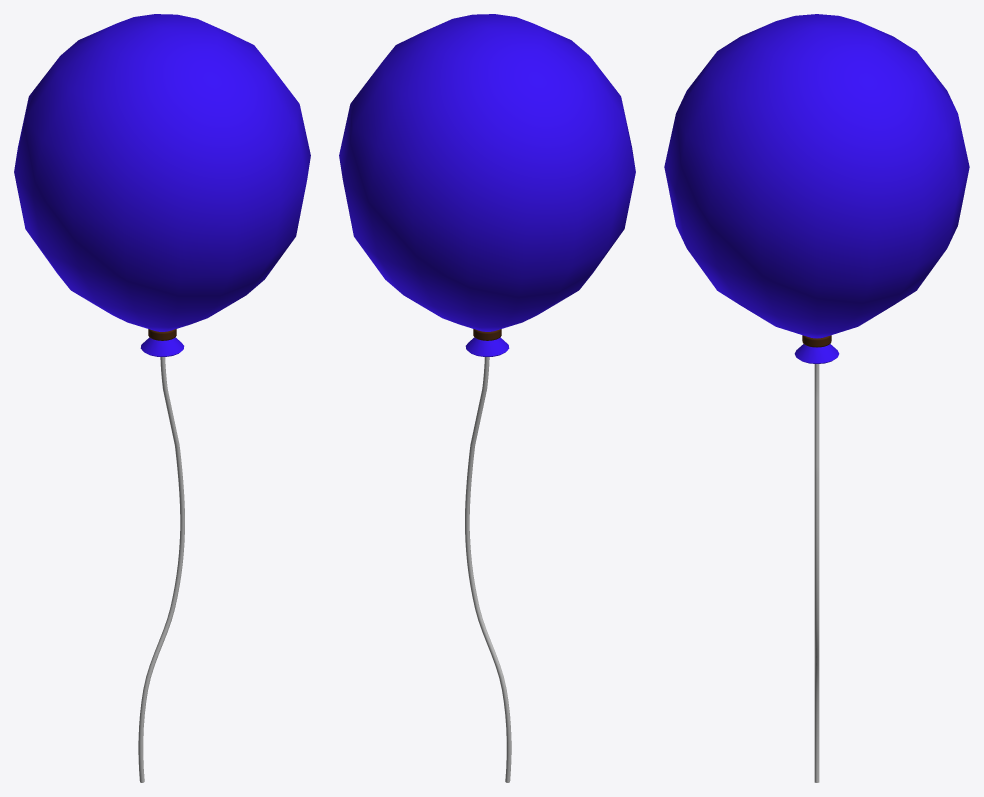
File: Balloon_Purple.FBX
The picture shows the model from 3 angles, left to right: view 1: azimuth 30°, elevation 25°; view 2: azimuth 150°, elevation 25°; view 3: azimuth 270°, elevation 25°; orthographic projection.
Parts seen in each view (by area): view 1: Sphere001; view 2: Sphere001; view 3: Sphere001.
Boxes of the visible parts, x1,y1,x2,y2 form: Sphere001: [14, 14, 310, 782]; Sphere001: [339, 14, 635, 782]; Sphere001: [664, 14, 969, 782].
Size of the model in its own units: 62.15 by 172 by 62.15.
